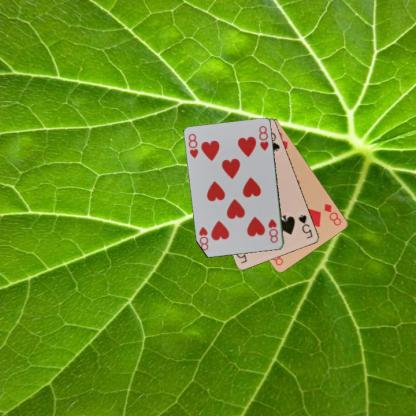5s: (296, 212, 314, 240)
8d: (322, 201, 342, 227)
8h: (186, 131, 200, 160), (266, 217, 279, 244)
